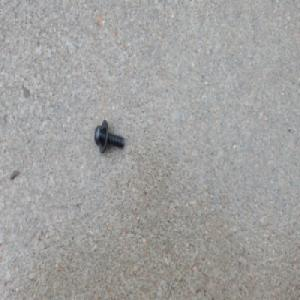BoltWasher: (94, 118, 125, 154)
